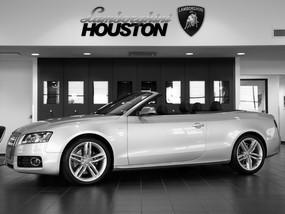car: (6, 93, 281, 186)
